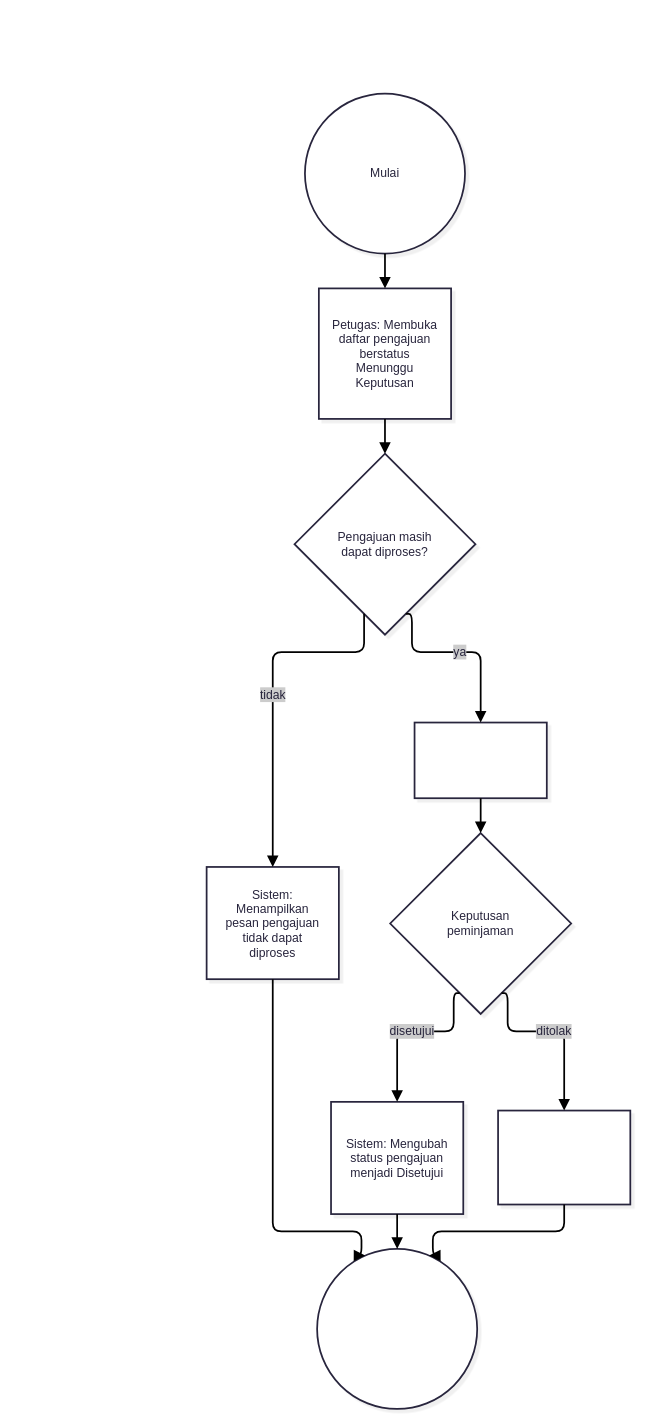
The diagram is 649 pixels wide and 1428 high, and some of its shapes have lost their labels. The centre of each missing label's shape, as x and y in pixels:
Petugas: Memilih keputusan peminjaman: the point at 482,761
Selesai: the point at 398,1330
Sistem: Mengubah status pengajuan menjadi Ditolak: the point at 565,1158
